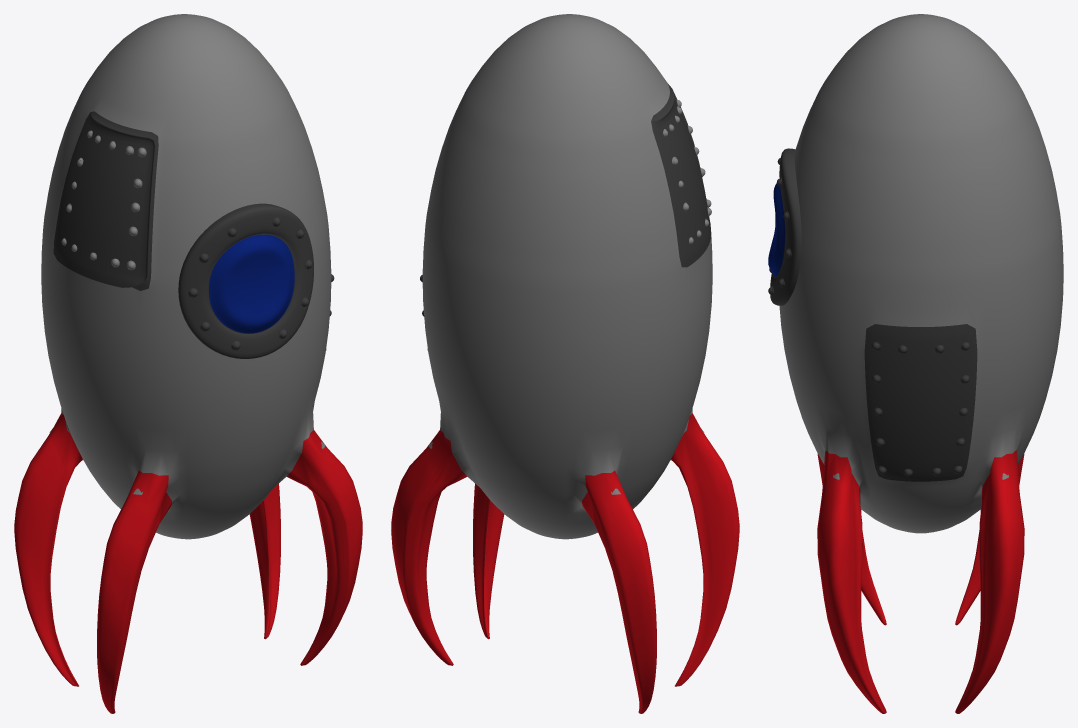
The model's file is nave-3d.obj.
3 views of the same model, side by side, from view 1: azimuth 30°, elevation 25°; view 2: azimuth 150°, elevation 25°; view 3: azimuth 270°, elevation 25° (orthographic).
Visible parts, largest first — view 1: Nave; view 2: Nave; view 3: Nave.
Boxes of the visible parts, left/top/right/bottom form: Nave: left=14, top=14, right=362, bottom=713; Nave: left=391, top=14, right=739, bottom=713; Nave: left=768, top=14, right=1063, bottom=713.
Size of the model in its own units: 1.14 by 2.73 by 1.13.
